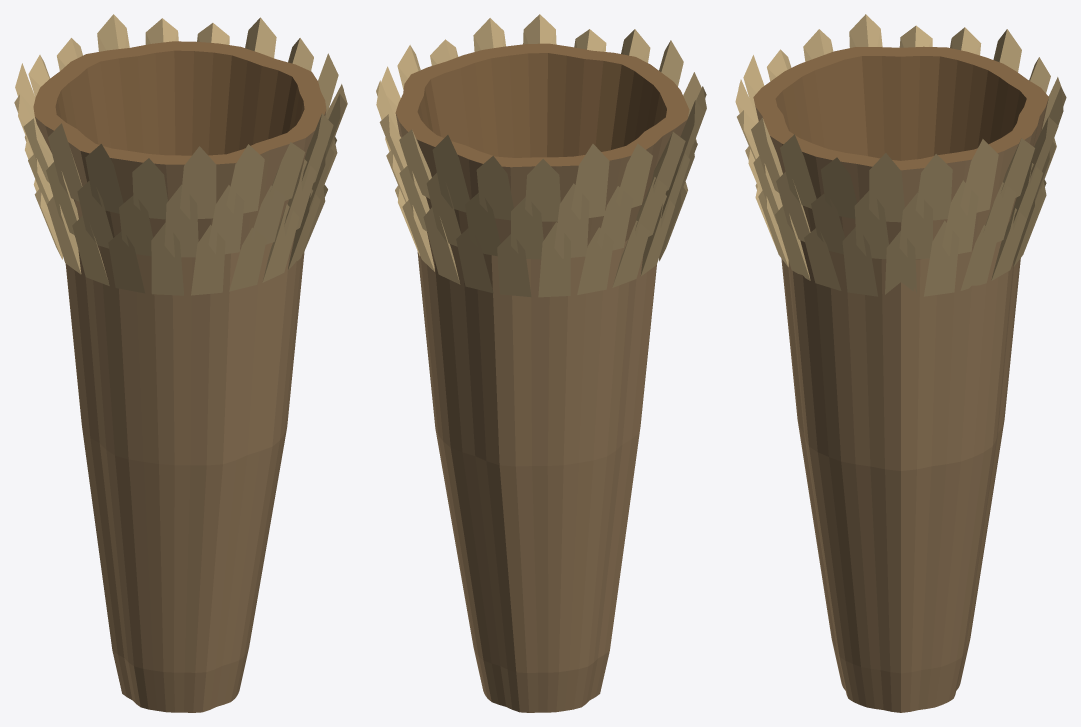
The model's file is nidula-baltica.glb.
3 views of the same model, side by side, from view 1: azimuth 30°, elevation 25°; view 2: azimuth 150°, elevation 25°; view 3: azimuth 270°, elevation 25° (orthographic).
Visible parts, largest first — view 1: two-sided-narrow-vase-cup, overlapping-upturned-rim-scales; view 2: two-sided-narrow-vase-cup, overlapping-upturned-rim-scales; view 3: two-sided-narrow-vase-cup, overlapping-upturned-rim-scales.
Part boxes in pixels (x1,y1,x2,y2): two-sided-narrow-vase-cup: [33, 41, 326, 712]; overlapping-upturned-rim-scales: [14, 14, 347, 295]; two-sided-narrow-vase-cup: [395, 43, 689, 712]; overlapping-upturned-rim-scales: [376, 14, 706, 297]; two-sided-narrow-vase-cup: [753, 46, 1048, 712]; overlapping-upturned-rim-scales: [735, 14, 1066, 296].
Bounding box in the file's own units: 0.0685 × 0.1387 × 0.0685.
